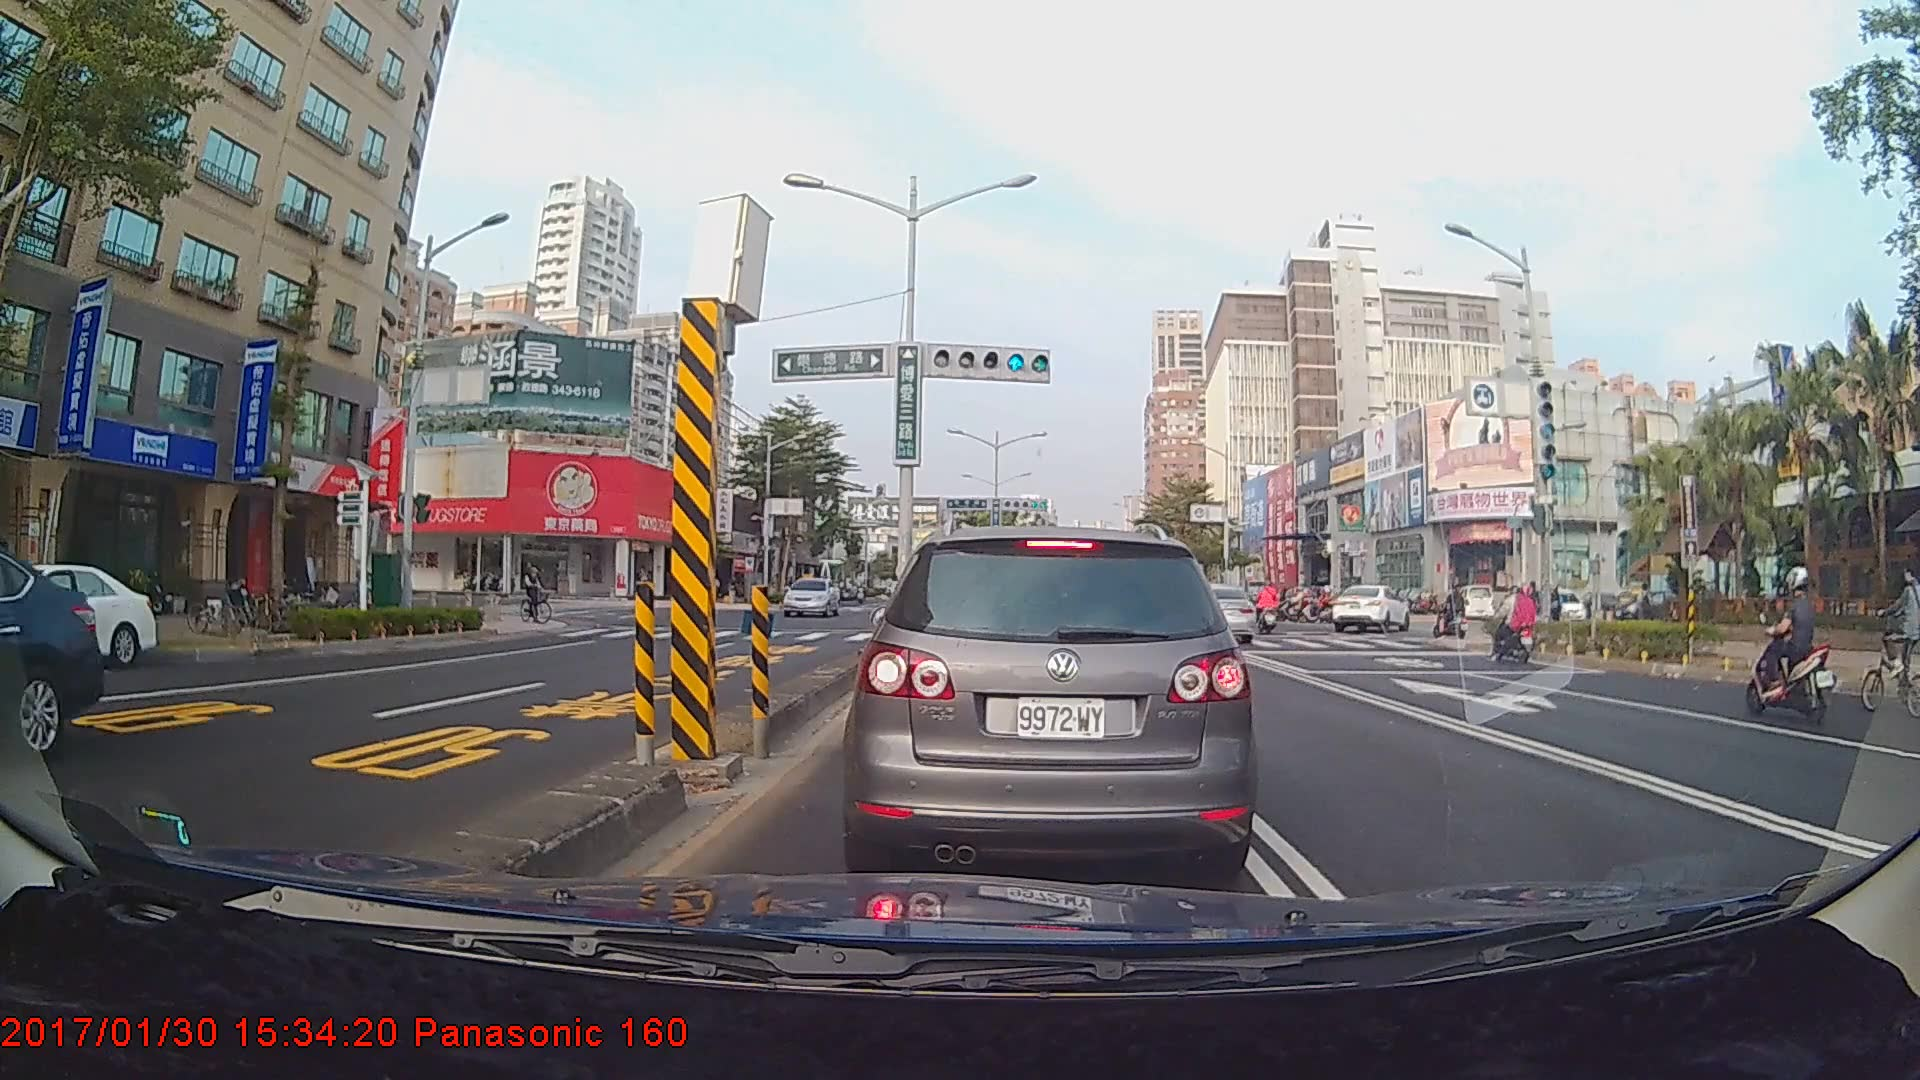pedestrian: (1628, 581, 1658, 640)
rider: (1743, 568, 1841, 719), (1861, 566, 1920, 712), (1485, 582, 1548, 668), (518, 559, 561, 629), (1433, 582, 1470, 646), (1253, 582, 1287, 633)
vehicle: (856, 523, 1246, 880), (0, 542, 105, 763), (0, 561, 157, 671), (1168, 582, 1256, 645), (1329, 584, 1409, 633), (782, 575, 837, 616)
